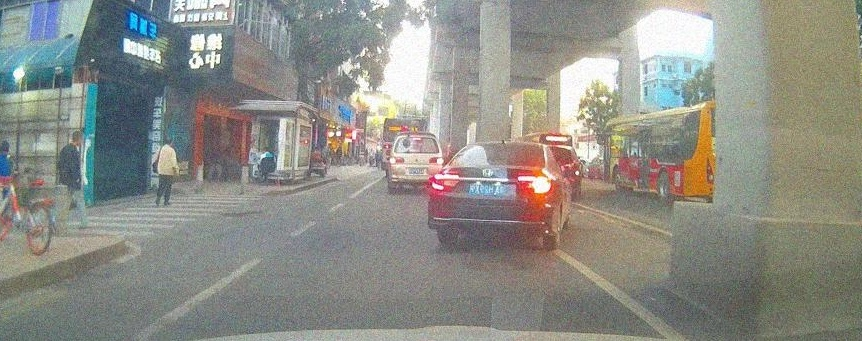L_light: (431, 173, 460, 191)
R_light: (517, 175, 553, 194)
T_light: (498, 144, 511, 148)
day-right: (431, 140, 558, 251)
